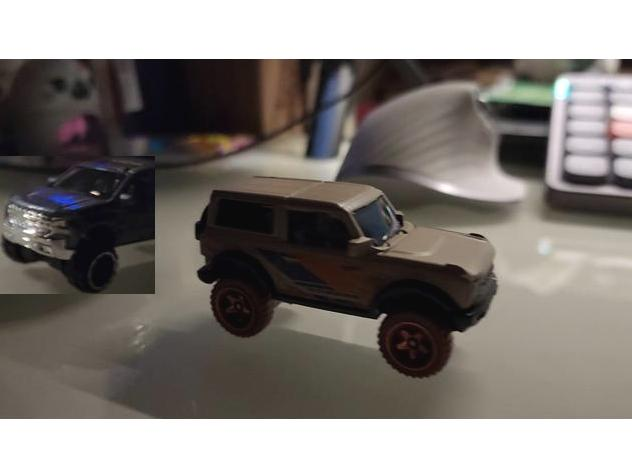toy-car: (194, 174, 498, 378), (0, 156, 155, 294)
